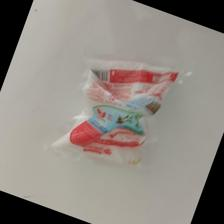Ajinomoto: (43, 52, 191, 182)
